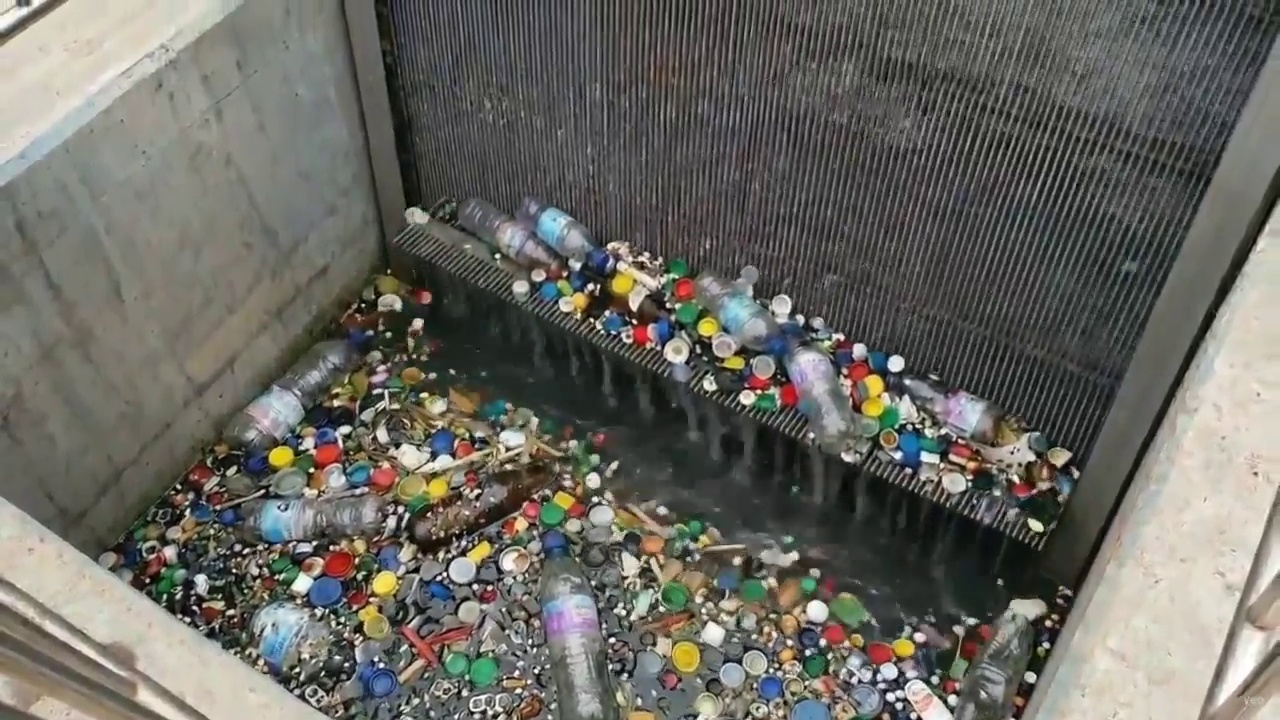debris: (108, 309, 1050, 719), (456, 189, 1085, 525)
